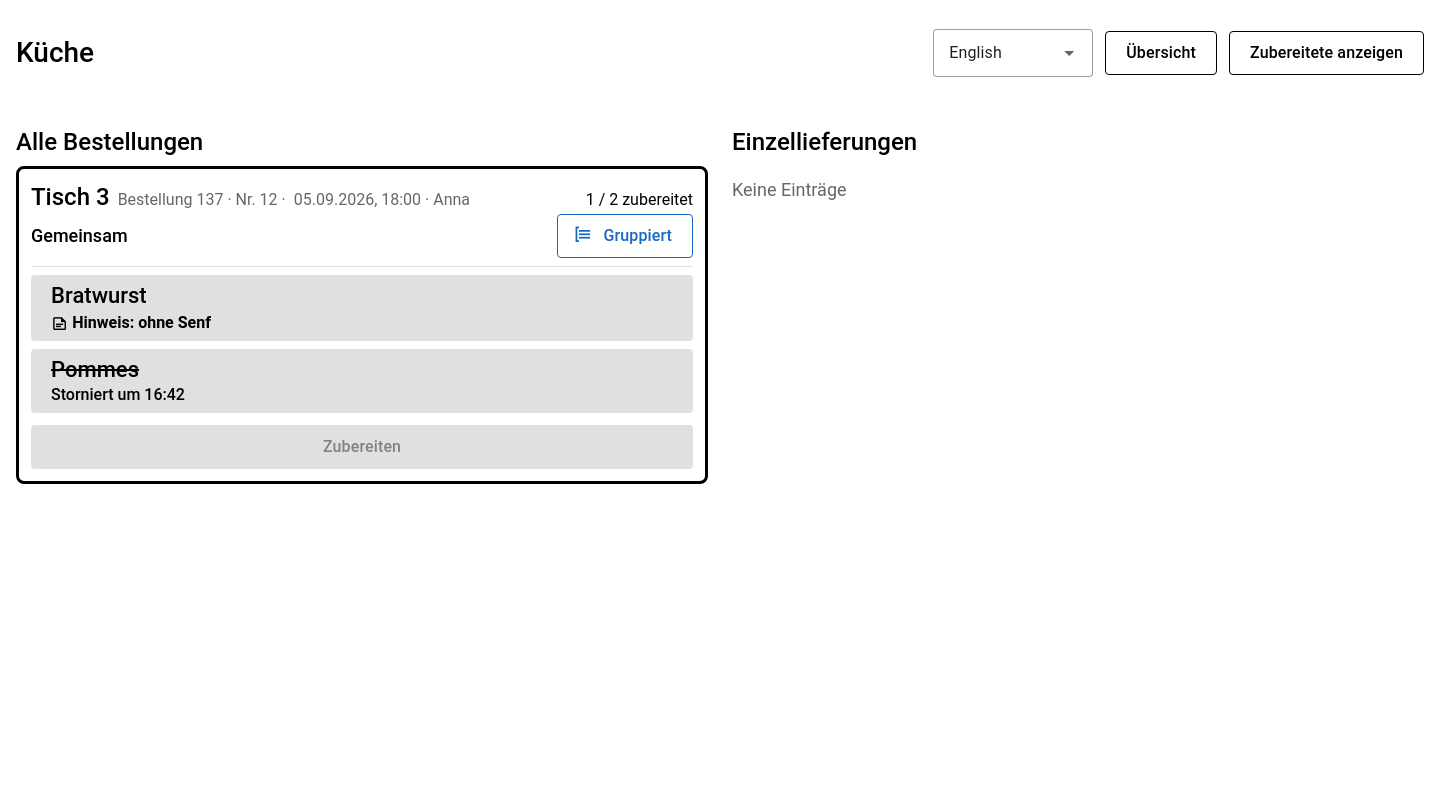
Test case: a card with an item a waiter cancelled while it was open › keeps the item struck through and asks for another tap when the laptop was not reached
Click the button "Pommes Storniert um 16:42": x=362, y=381 [31, 349, 693, 413]
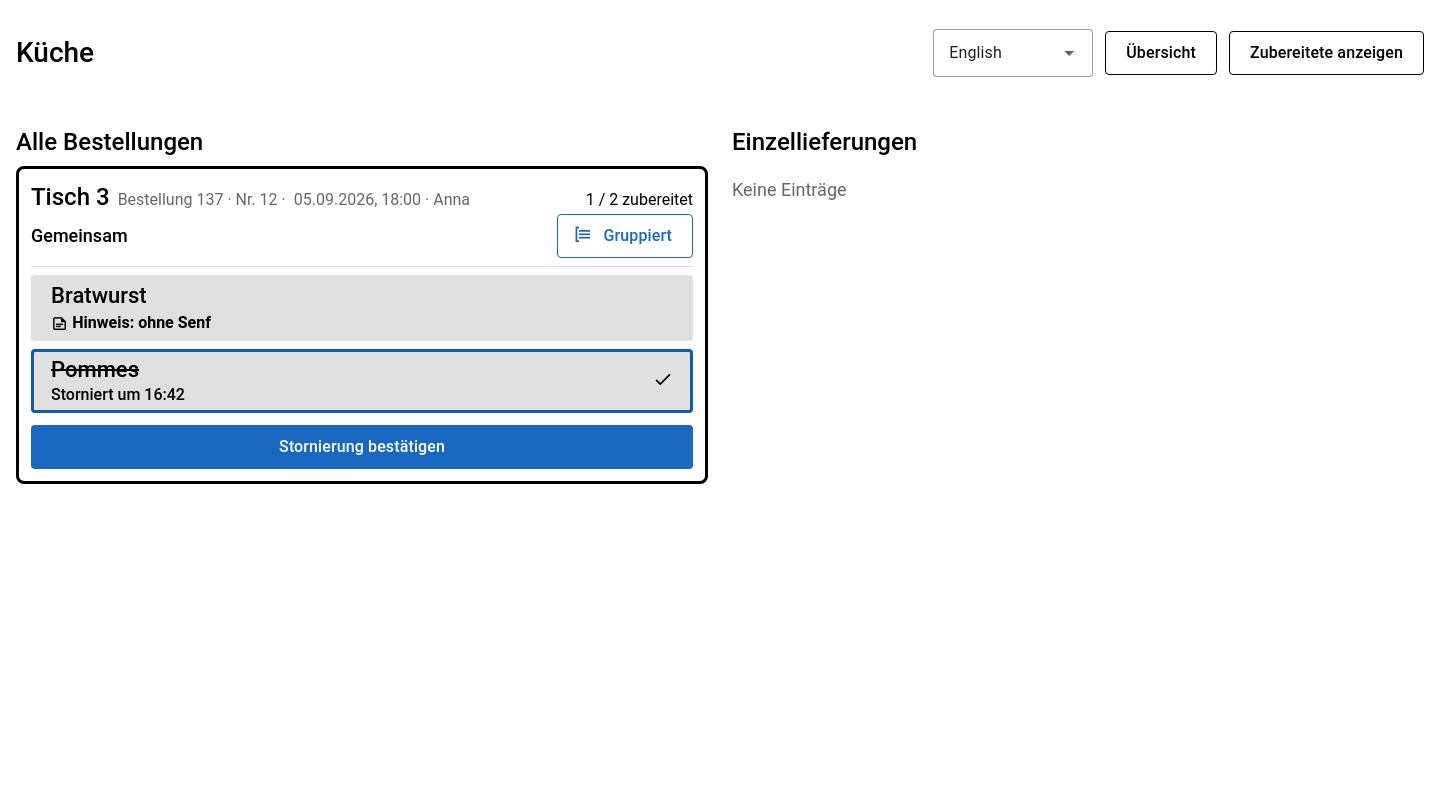
Click the button "Stornierung bestätigen": x=362, y=447 [31, 425, 693, 469]
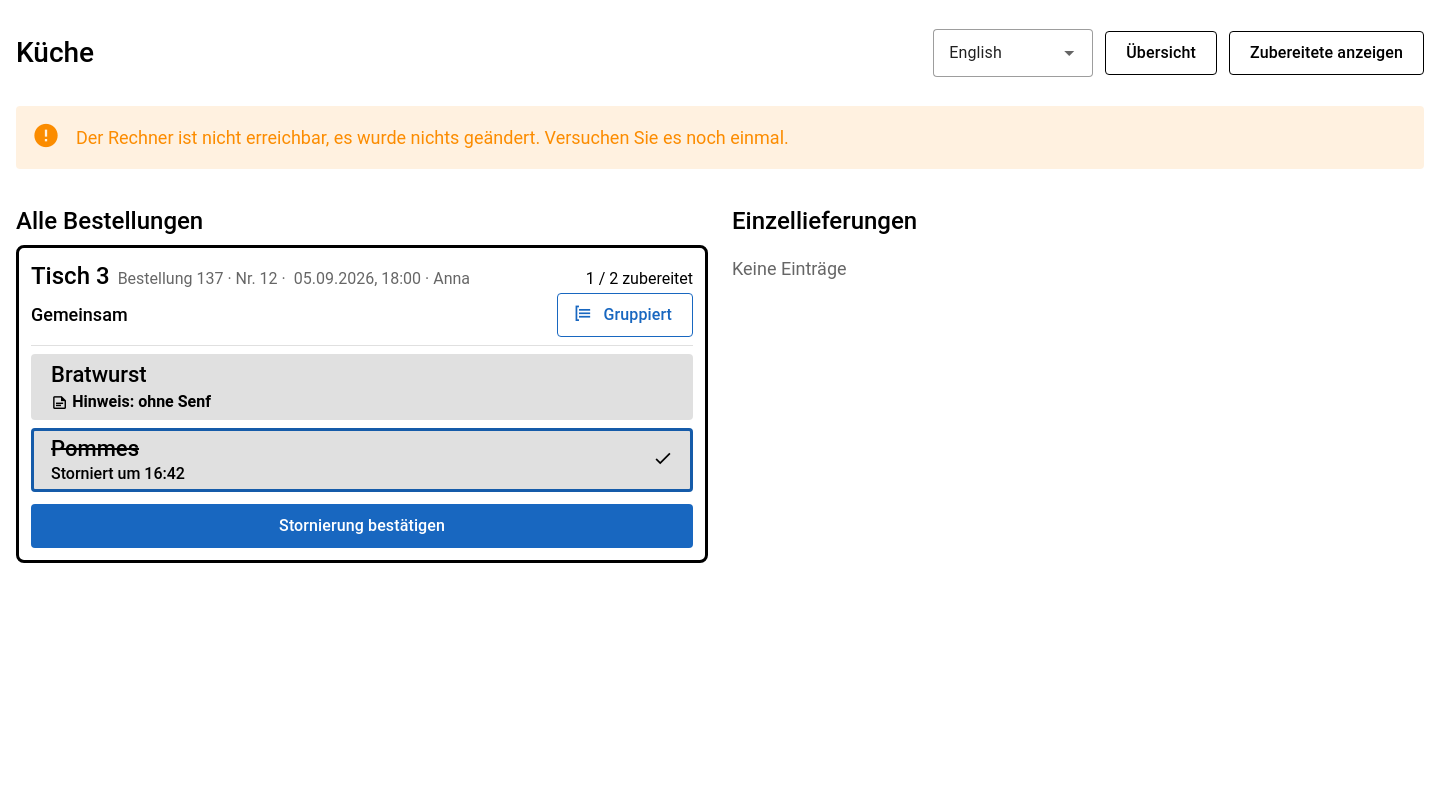
Now the element with test id "action-failed" shows "Der Rechner ist nicht erreichbar, es wurde nichts geändert. Versuchen Sie es noch einmal.", box [76, 127, 789, 148]
